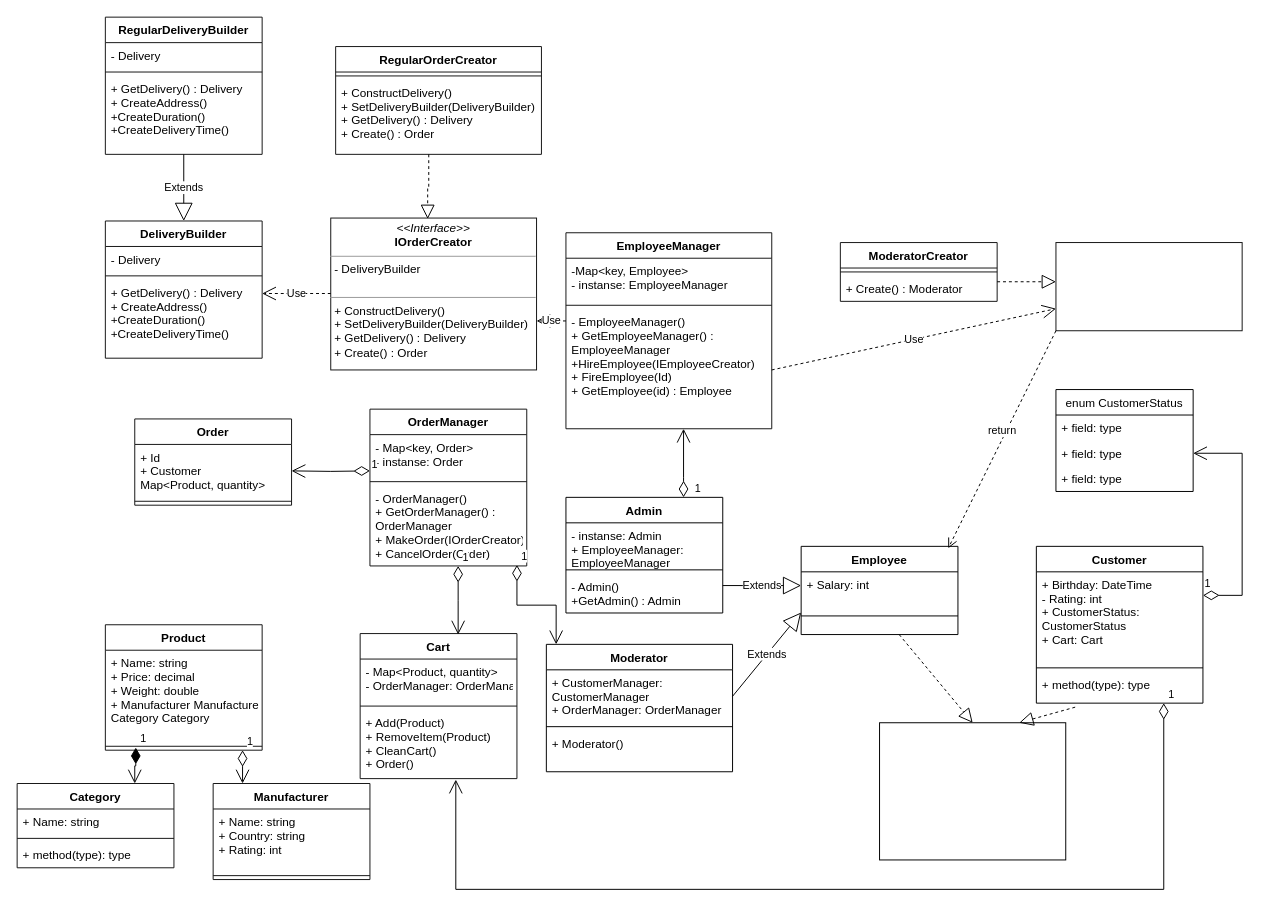
The diagram is 1276 pixels wide and 923 high, and some of its shapes have lost their labels. Each missing label, with the centre of its shape:
<<Interface>> IEmployeeCreator + Create() : Employee: pixel 1148 286
<<Interface>> IUser + Id: int + Name: string +Email: string +Phone: string: pixel 972 791
